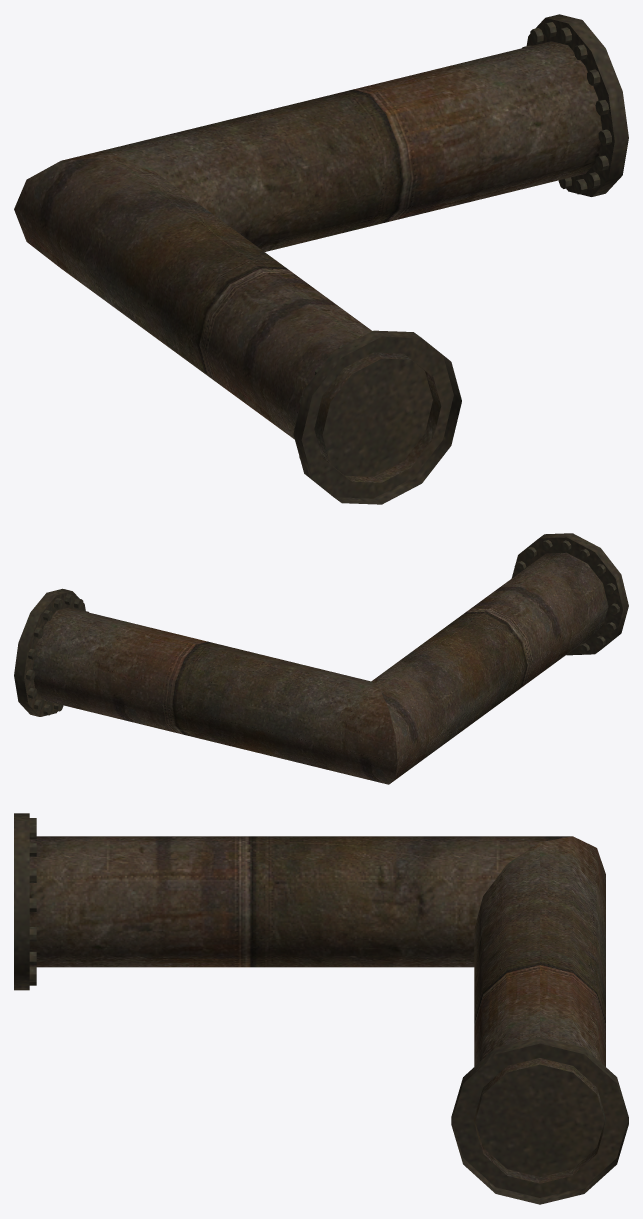
The model's file is pipe_bx_3.obj.
3 renders of one model, top to bottom at view 1: azimuth 30°, elevation 25°; view 2: azimuth 150°, elevation 25°; view 3: azimuth 270°, elevation 25°, orthographic. The views are drawn at different scales.
Visible parts, largest first — view 1: pipe_bx_3; view 2: pipe_bx_3; view 3: pipe_bx_3.
Part boxes in pixels (bbox=[...]): pipe_bx_3: bbox=[14, 14, 628, 504]; pipe_bx_3: bbox=[14, 533, 628, 784]; pipe_bx_3: bbox=[14, 813, 628, 1204].
Bounding box in the file's own units: 2.34 × 0.676 × 2.34.
